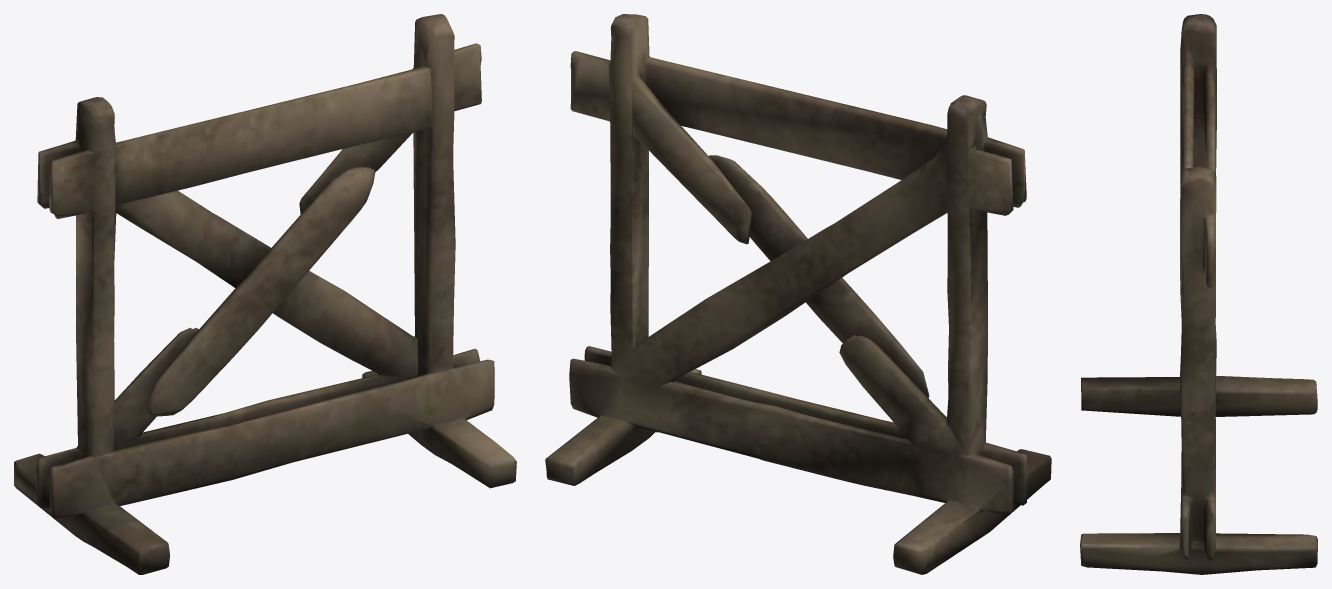
File: plain-wood-barricade-v001.glb
3 renders of one model, left to right at view 1: azimuth 30°, elevation 25°; view 2: azimuth 150°, elevation 25°; view 3: azimuth 270°, elevation 25°, orthographic. The views are drawn at different scales.
Visible parts, largest first — view 1: plain-wood-barricade; view 2: plain-wood-barricade; view 3: plain-wood-barricade.
Boxes of the visible parts, x1,y1,x2,y2 form: plain-wood-barricade: (14,14,516,574); plain-wood-barricade: (545,14,1051,574); plain-wood-barricade: (1080,14,1317,574).
Size of the model in its own units: 1.25 by 1.16 by 0.6288.
1 material, 1 textured.
